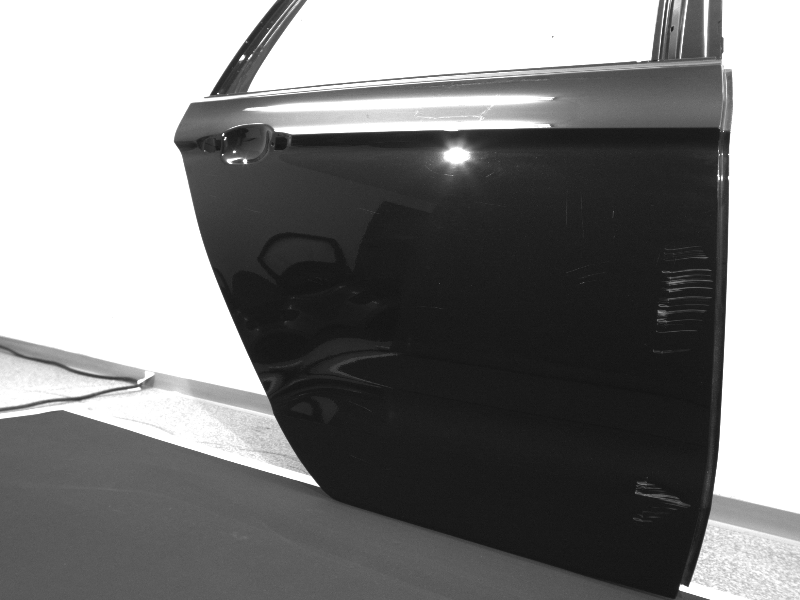scratch: (652, 243, 713, 355), (630, 479, 691, 524), (564, 263, 608, 285), (579, 192, 587, 238), (349, 400, 373, 414), (357, 206, 383, 216), (477, 200, 503, 207), (415, 304, 445, 310), (348, 453, 366, 463), (564, 193, 569, 225), (610, 209, 616, 219)
